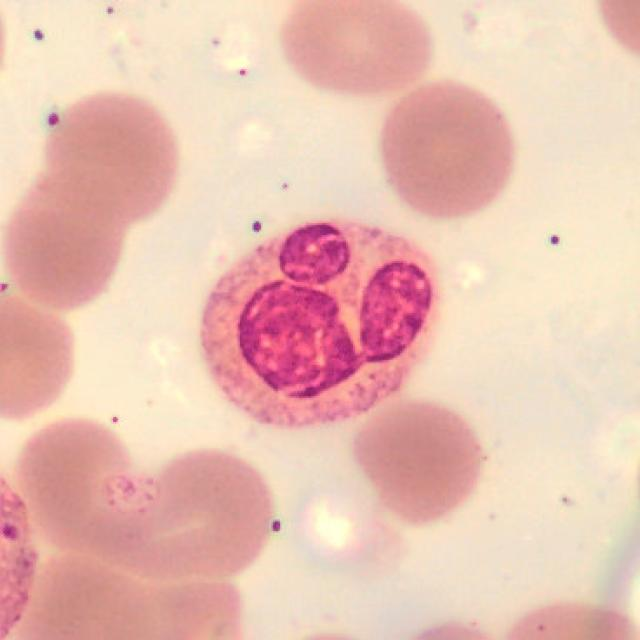Neutrofilo segmentado: (200, 221, 440, 429)
